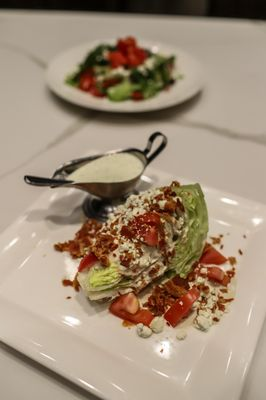salad: (23, 131, 169, 201)
